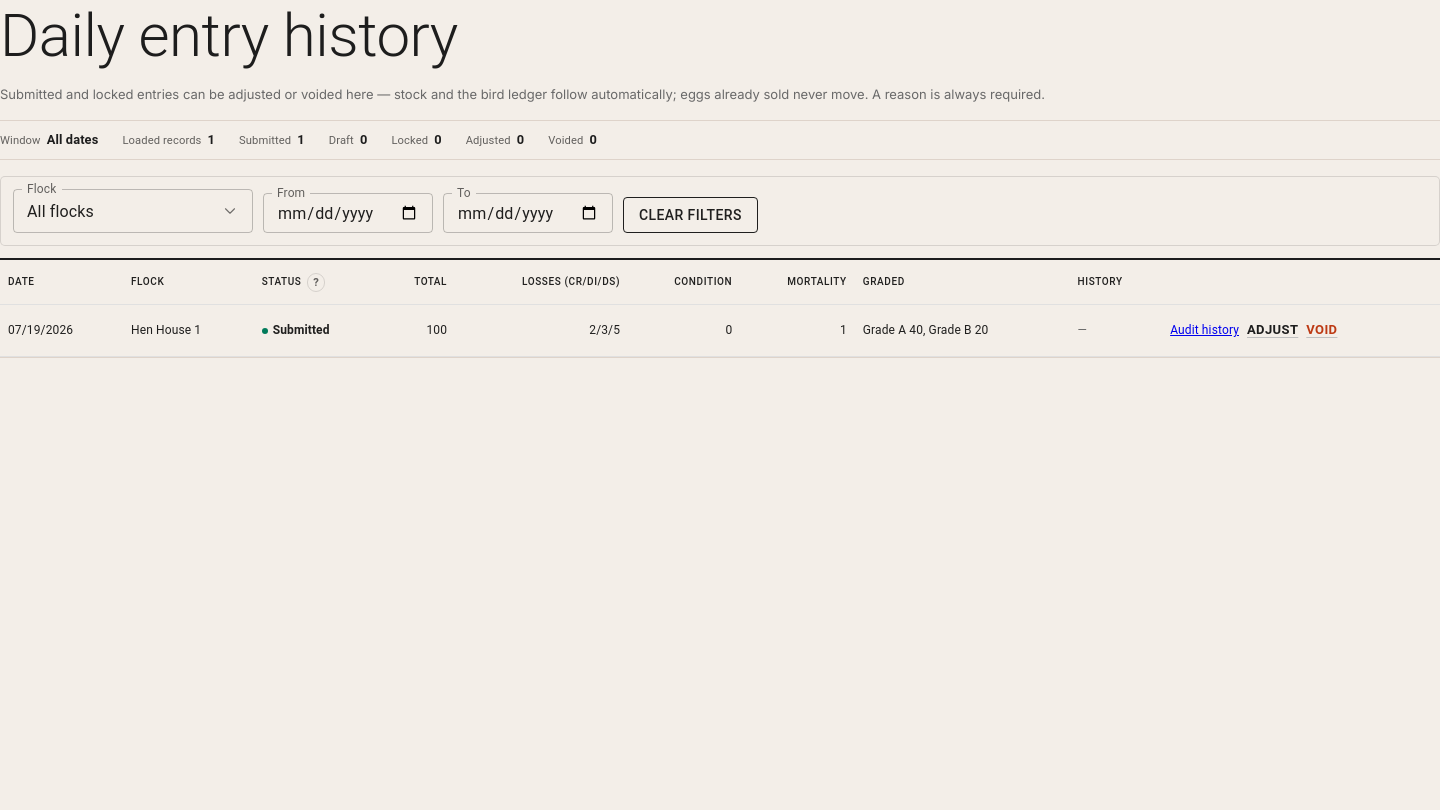
Scenario: updates the reconciliation equation when grading reaches sellable eggs
This screenshot has width=1440, height=810.
Click the button "adjust" at (1273, 330), box [1247,315,1298,346]
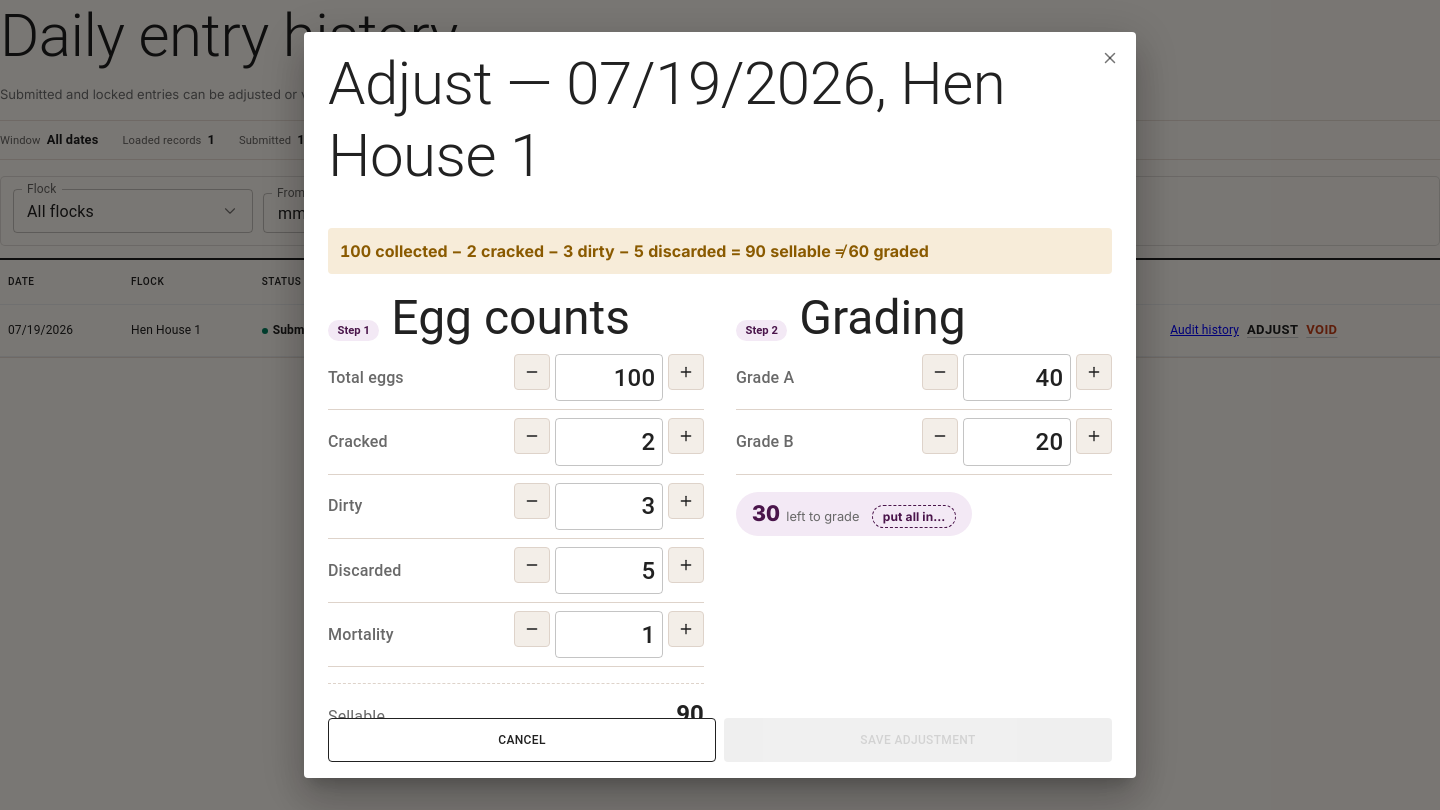
Check: the text named "Reconciliation" reads "100 collected − 2 cracked − 3 dirty − 5 discarded = 90 sellable ≠ 60 graded", box [340,241,929,261]
Replace the text in the number field labelled "Grade B" with "50" at (1017, 442), box [963,418,1071,466]
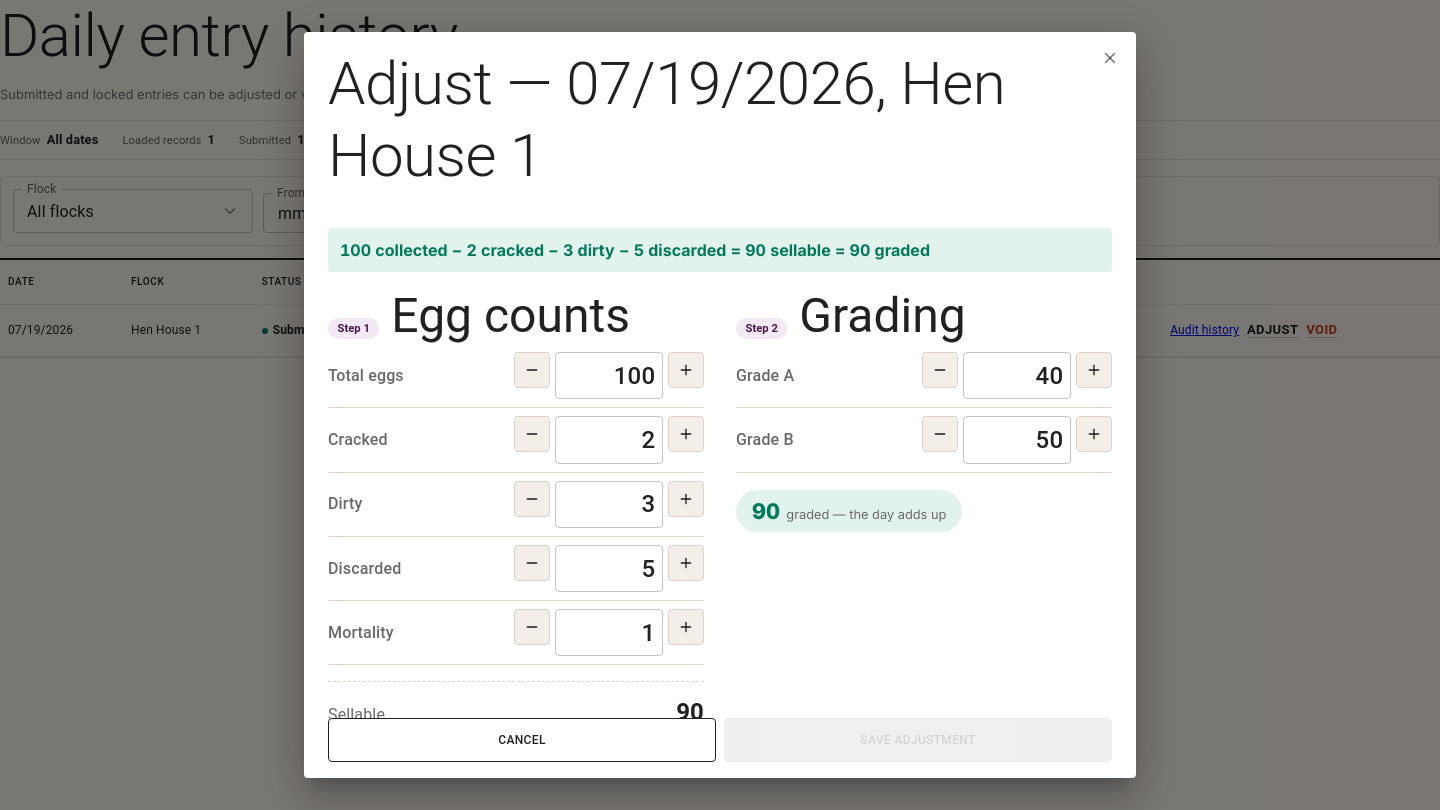
Check: the text named "Reconciliation" reads "100 collected − 2 cracked − 3 dirty − 5 discarded = 90 sellable = 90 graded", box [340,240,930,260]
